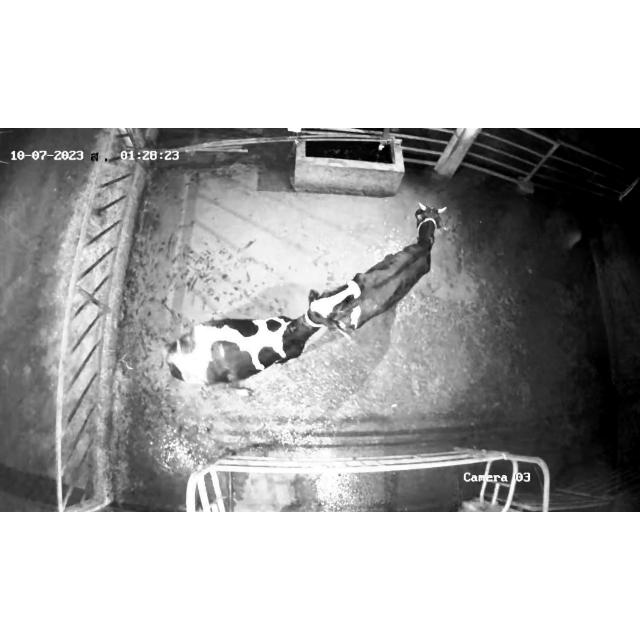propping: (287, 268, 379, 348)
